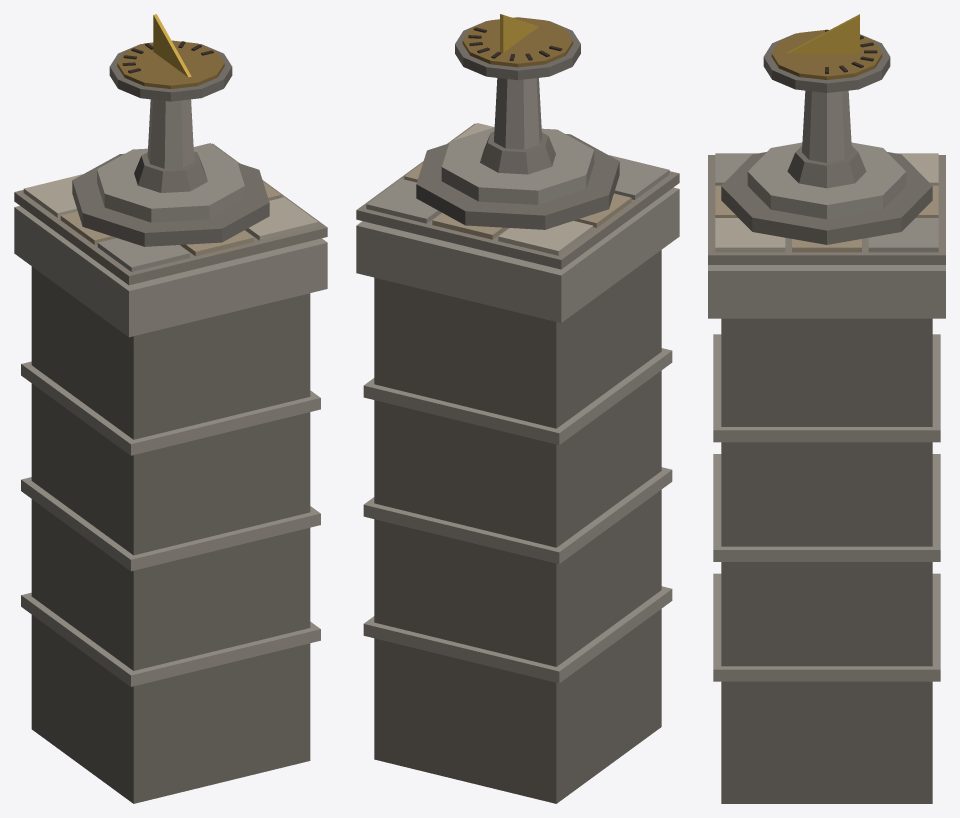
File: decor_sundial_pillar.glb
3 renders of one model, left to right at view 1: azimuth 30°, elevation 25°; view 2: azimuth 150°, elevation 25°; view 3: azimuth 270°, elevation 25°, orthographic. The views are drawn at different scales.
Visible parts, largest first — view 1: decor_sundial_pillar; view 2: decor_sundial_pillar; view 3: decor_sundial_pillar.
Boxes of the visible parts, x1,y1,x2,y2 form: decor_sundial_pillar: (14, 14, 327, 803); decor_sundial_pillar: (356, 14, 679, 803); decor_sundial_pillar: (708, 14, 945, 803).
Size of the model in its own units: 1.8 by 6.22 by 1.8.
